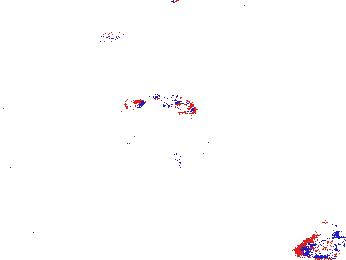X-ray fish: (299, 233, 346, 257), (196, 136, 221, 163)
red belly glassfish: (153, 91, 197, 116), (94, 28, 144, 48), (124, 97, 146, 112)
